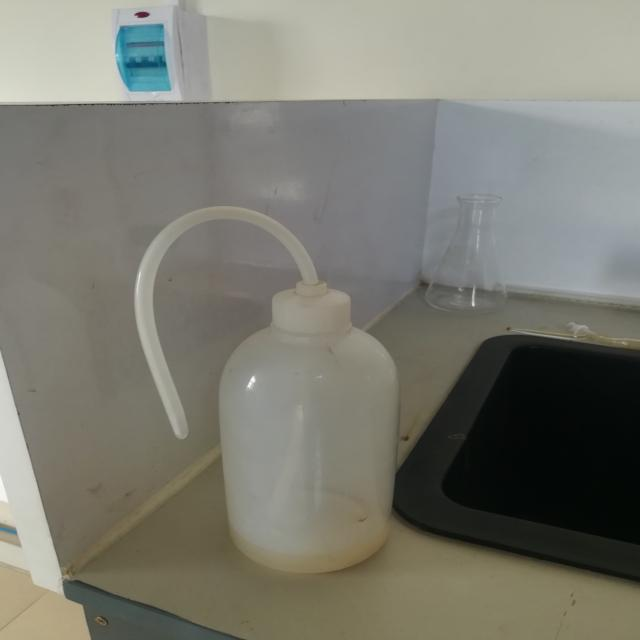Wash_Bottle: (61, 170, 460, 610)
